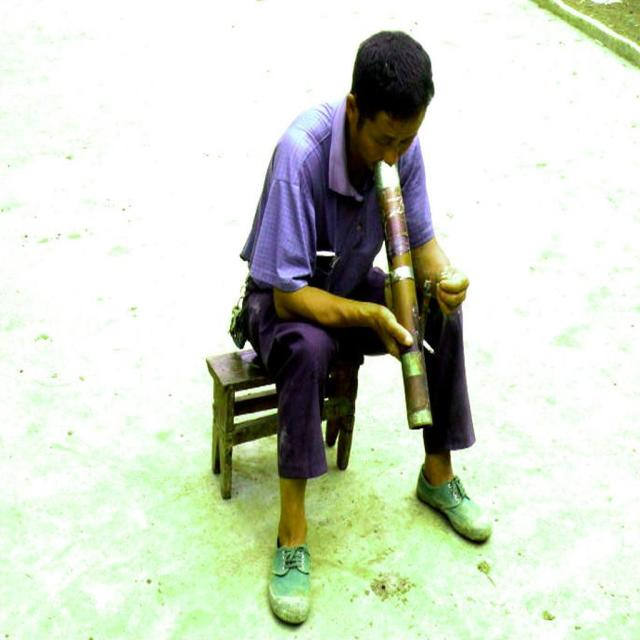smoking: (350, 26, 436, 430)
